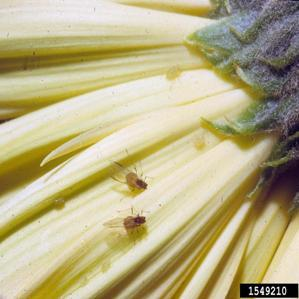Green peach aphid: (95, 142, 168, 200), (99, 199, 158, 250)
